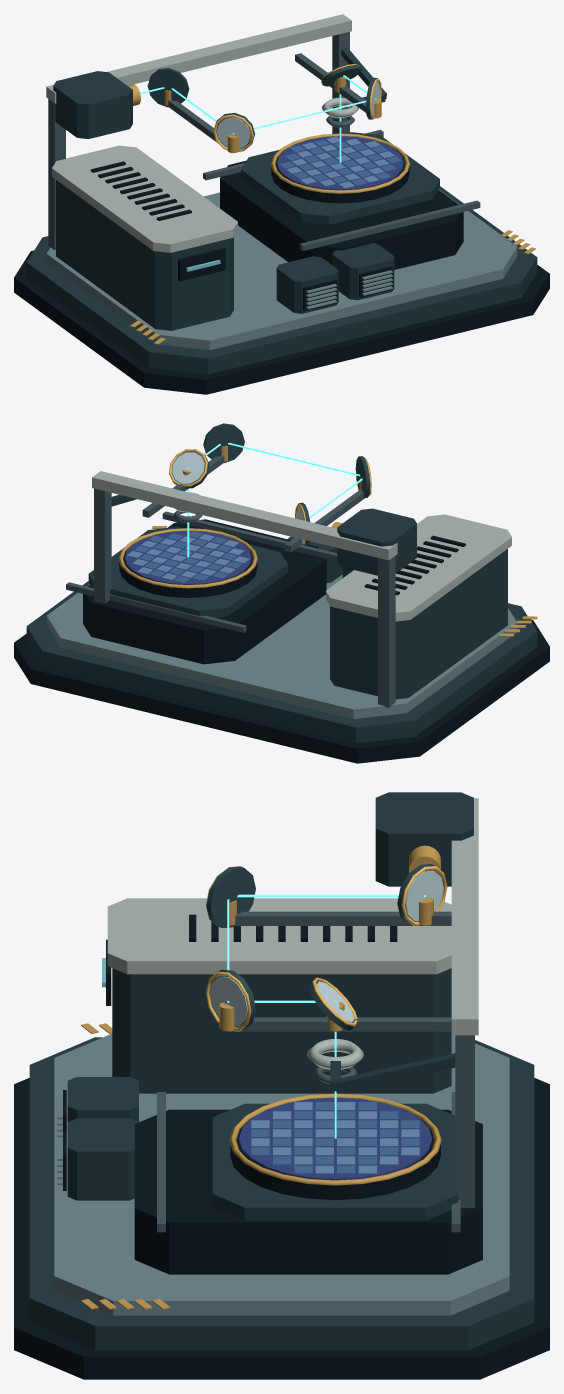
File: lit01_chip_writer_d0_lod1.glb
3 views of the same model, one above another, from view 1: azimuth 30°, elevation 25°; view 2: azimuth 150°, elevation 25°; view 3: azimuth 270°, elevation 25° (orthographic). The views are drawn at different scales.
Parts seen in each view (by area): view 1: MACHINE_CHASSIS, STAGE_CARRIAGE, PATTERNED_WAFER, MIRROR_1_ASSEMBLY, MIRROR_2_ASSEMBLY, LASER_SEGMENTS, MIRROR_4_ASSEMBLY, MIRROR_3_ASSEMBLY; view 2: MACHINE_CHASSIS, STAGE_CARRIAGE, PATTERNED_WAFER, MIRROR_4_ASSEMBLY, MIRROR_3_ASSEMBLY, LASER_SEGMENTS, MIRROR_2_ASSEMBLY; view 3: MACHINE_CHASSIS, STAGE_CARRIAGE, PATTERNED_WAFER, MIRROR_2_ASSEMBLY, MIRROR_3_ASSEMBLY, MIRROR_1_ASSEMBLY, MIRROR_4_ASSEMBLY, LASER_SEGMENTS.
Boxes of the visible parts, x1,y1,x2,y2 form: MACHINE_CHASSIS: [14, 14, 549, 394]; STAGE_CARRIAGE: [241, 132, 439, 224]; PATTERNED_WAFER: [277, 136, 403, 190]; MIRROR_1_ASSEMBLY: [147, 67, 189, 107]; MIRROR_2_ASSEMBLY: [213, 112, 254, 151]; LASER_SEGMENTS: [140, 75, 376, 162]; MIRROR_4_ASSEMBLY: [321, 63, 361, 86]; MIRROR_3_ASSEMBLY: [366, 77, 381, 119]; MACHINE_CHASSIS: [14, 446, 549, 763]; STAGE_CARRIAGE: [88, 526, 287, 617]; PATTERNED_WAFER: [125, 530, 251, 584]; MIRROR_4_ASSEMBLY: [169, 449, 209, 488]; MIRROR_3_ASSEMBLY: [203, 423, 244, 462]; LASER_SEGMENTS: [187, 443, 362, 557]; MIRROR_2_ASSEMBLY: [355, 456, 371, 498]; MACHINE_CHASSIS: [14, 792, 549, 1379]; STAGE_CARRIAGE: [212, 1093, 458, 1220]; PATTERNED_WAFER: [239, 1097, 431, 1180]; MIRROR_2_ASSEMBLY: [206, 866, 255, 927]; MIRROR_3_ASSEMBLY: [206, 969, 255, 1031]; MIRROR_1_ASSEMBLY: [397, 864, 447, 925]; MIRROR_4_ASSEMBLY: [308, 977, 357, 1030]; LASER_SEGMENTS: [227, 894, 425, 1138].
Bounding box in the file's own units: 8 × 3.86 × 6.
